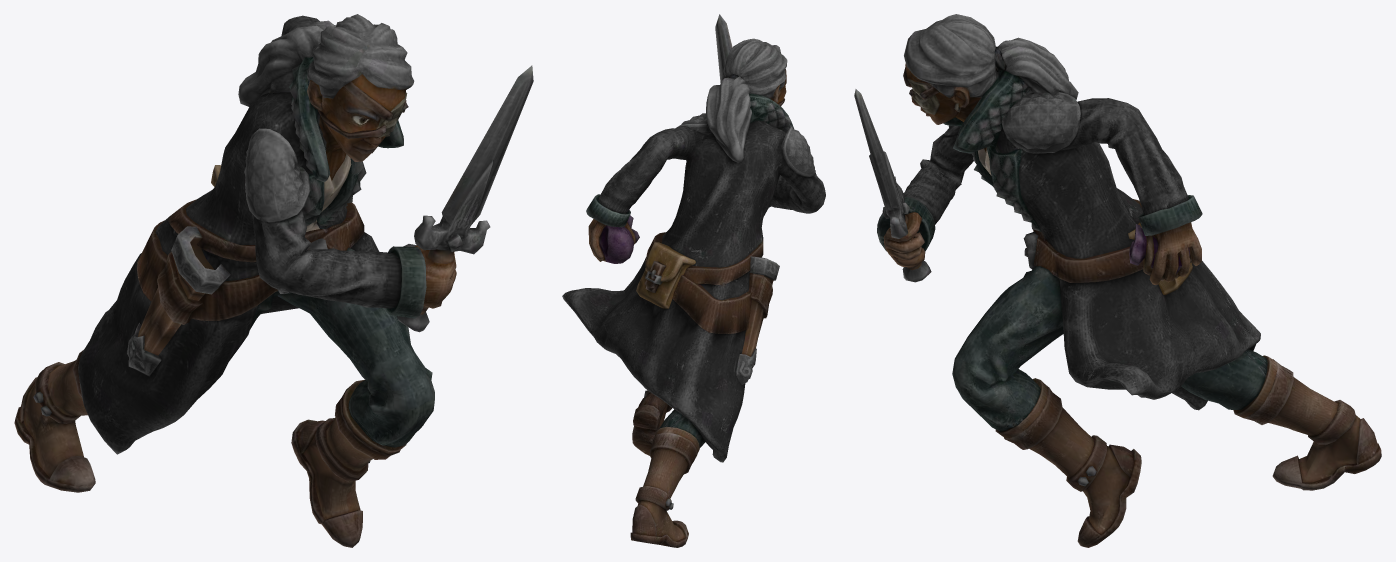
File: MZ4250 - Spy Female 01.glb
3 views of the same model, side by side, from view 1: azimuth 30°, elevation 25°; view 2: azimuth 150°, elevation 25°; view 3: azimuth 270°, elevation 25° (orthographic). The views are drawn at different scales.
Visible parts, largest first — view 1: SpyFemale; view 2: SpyFemale; view 3: SpyFemale.
Boxes of the visible parts, x1,y1,x2,y2 form: SpyFemale: (14,14,533,547); SpyFemale: (562,14,825,547); SpyFemale: (854,14,1381,547).
Bounding box in the file's own units: 0.4062 × 0.767 × 0.7359.
Materials: 1 (1 with a texture image).
